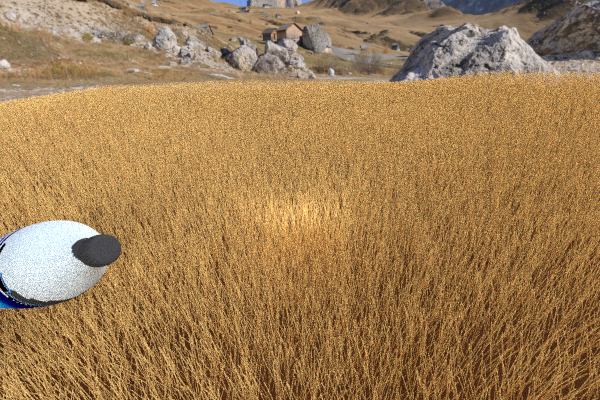bottle: (0, 220, 121, 310)
can: (406, 111, 459, 142)
